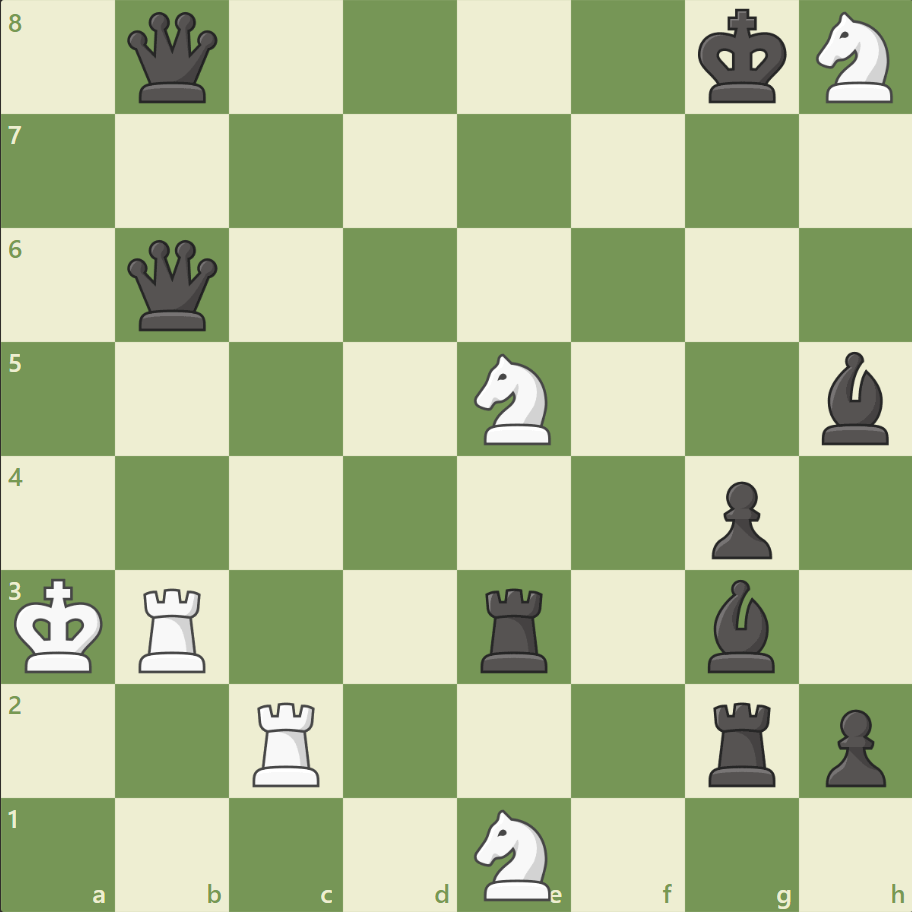K: (11, 571, 111, 679)
N: (806, 7, 903, 110), (465, 348, 562, 450), (465, 802, 562, 904)
R: (246, 693, 329, 790), (133, 579, 215, 676)
b: (812, 347, 896, 449), (698, 574, 782, 676)
k: (692, 4, 792, 112)
p: (701, 473, 776, 564), (815, 700, 889, 791)
q: (124, 9, 223, 108), (124, 236, 223, 335)
r: (473, 579, 556, 676), (700, 693, 783, 790)
